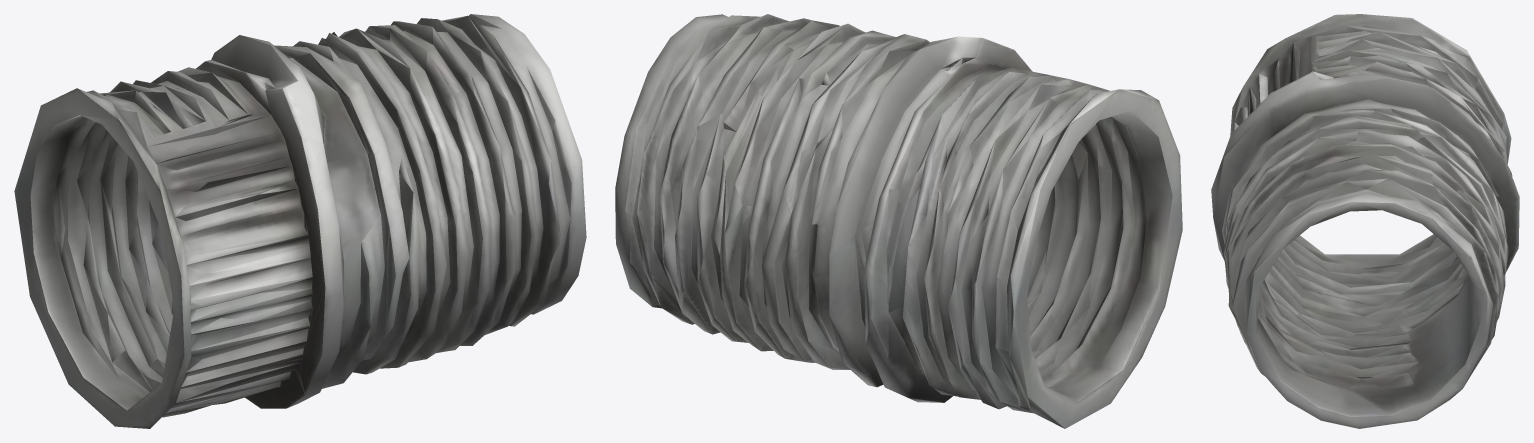
The model's file is m2WindTubeBg.glb.
3 renders of one model, left to right at view 1: azimuth 30°, elevation 25°; view 2: azimuth 150°, elevation 25°; view 3: azimuth 270°, elevation 25°, orthographic. The views are drawn at different scales.
Visible parts, largest first — view 1: model; view 2: model; view 3: model.
Part boxes in pixels (box(x1,y1,x2,y2)): model: box(14, 14, 586, 428); model: box(615, 14, 1182, 428); model: box(1211, 14, 1519, 428).
Size of the model in its own units: 1.9 by 1.47 by 1.46.
1 material, 1 textured.
